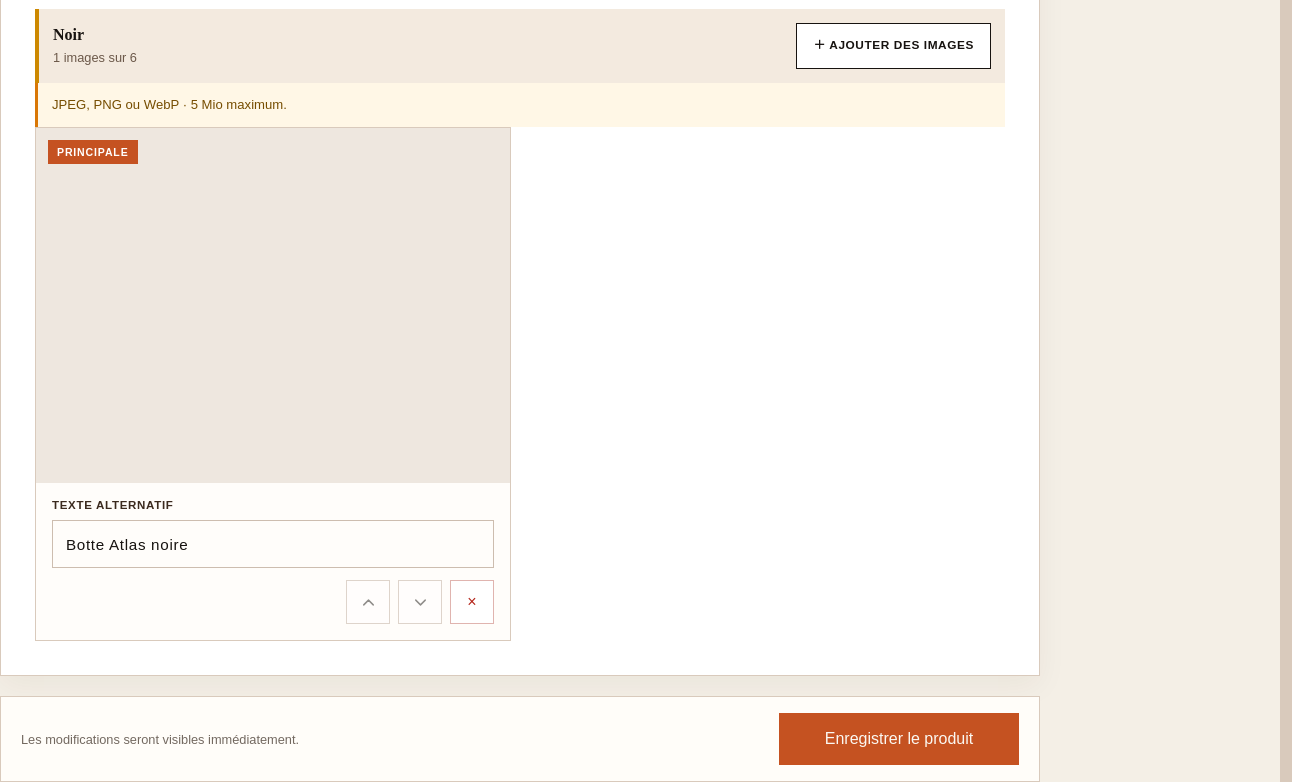
Test: Impeccable admin product form › repasse automatiquement en brouillon si la dernière image est supprimée
(page scrolled)
Click the button named "Supprimer l’image 1" at {"x": 472, "y": 602}, box [450,580,494,624]
(page scrolled)
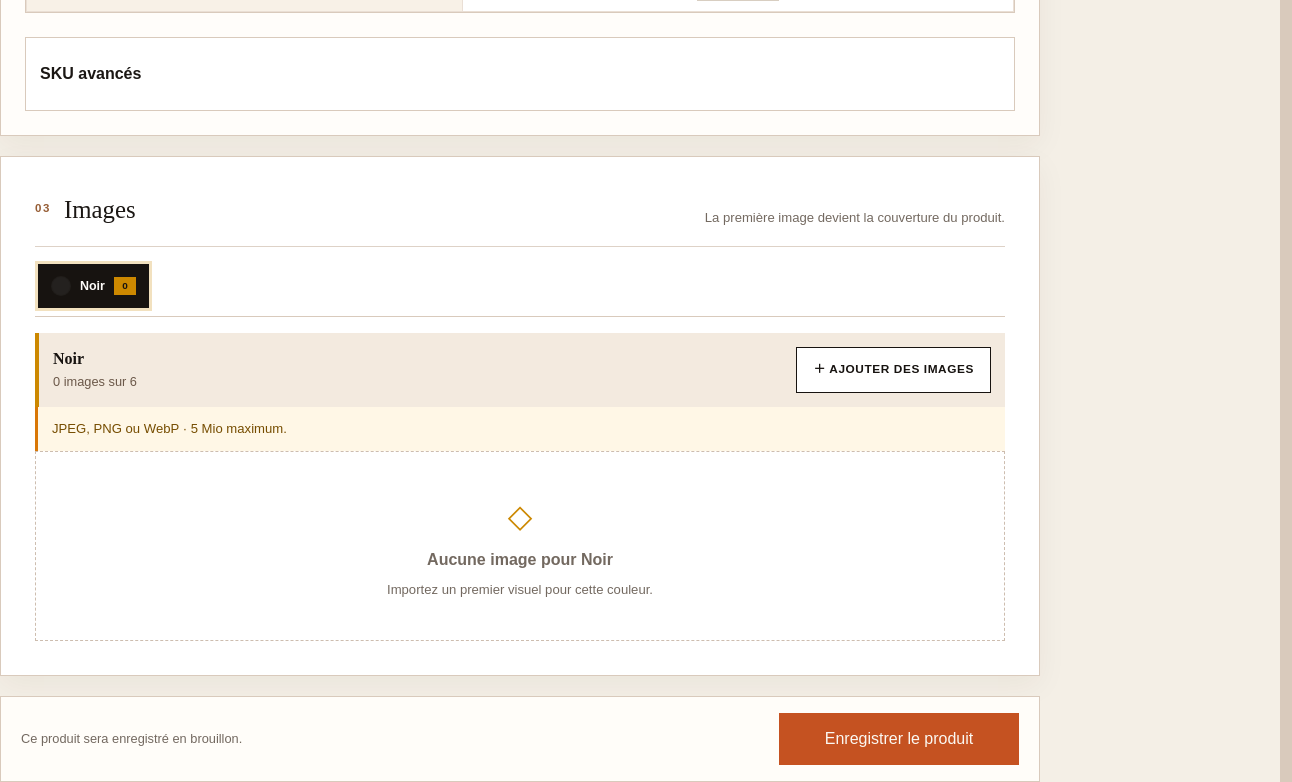
Now the text "Ce produit sera enregistré en brouillon." is shown, box [21,729,242,748]
